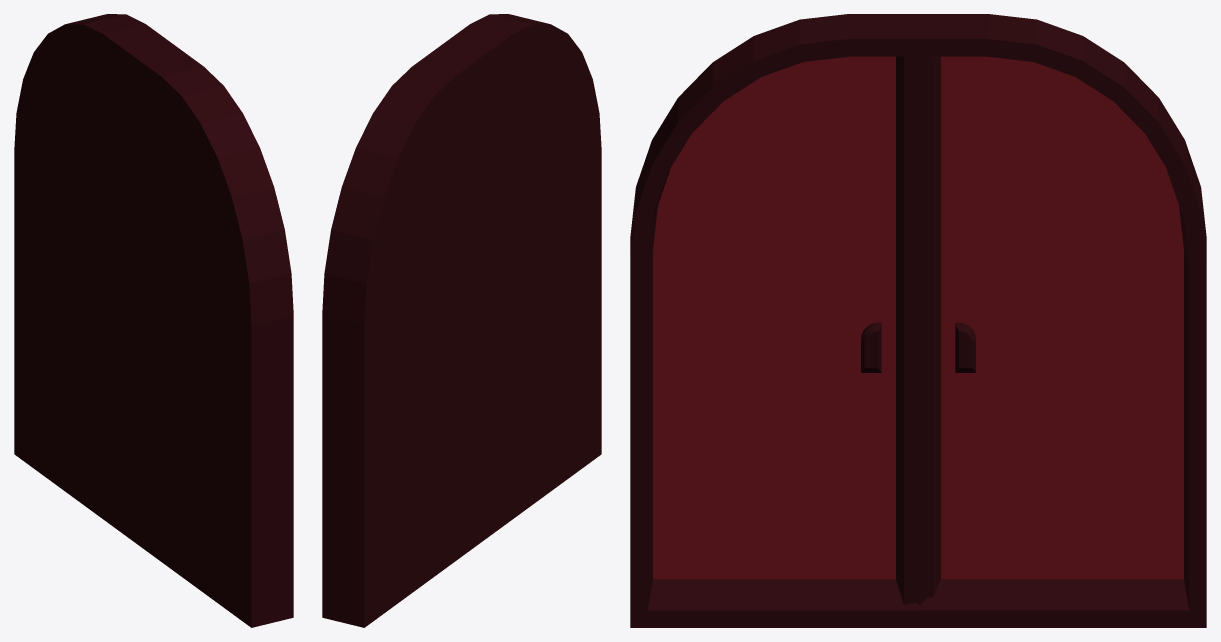
The model's file is door.fbx.
3 renders of one model, left to right at view 1: azimuth 30°, elevation 25°; view 2: azimuth 150°, elevation 25°; view 3: azimuth 270°, elevation 25°, orthographic. The views are drawn at different scales.
Visible parts, largest first — view 1: Cube; view 2: Cube; view 3: Cube.
Part boxes in pixels (x1,y1,x2,y2): Cube: (14,14,293,627); Cube: (322,14,601,627); Cube: (630,14,1206,627).
Bounding box in the file's own units: 74.71 × 820 × 727.
